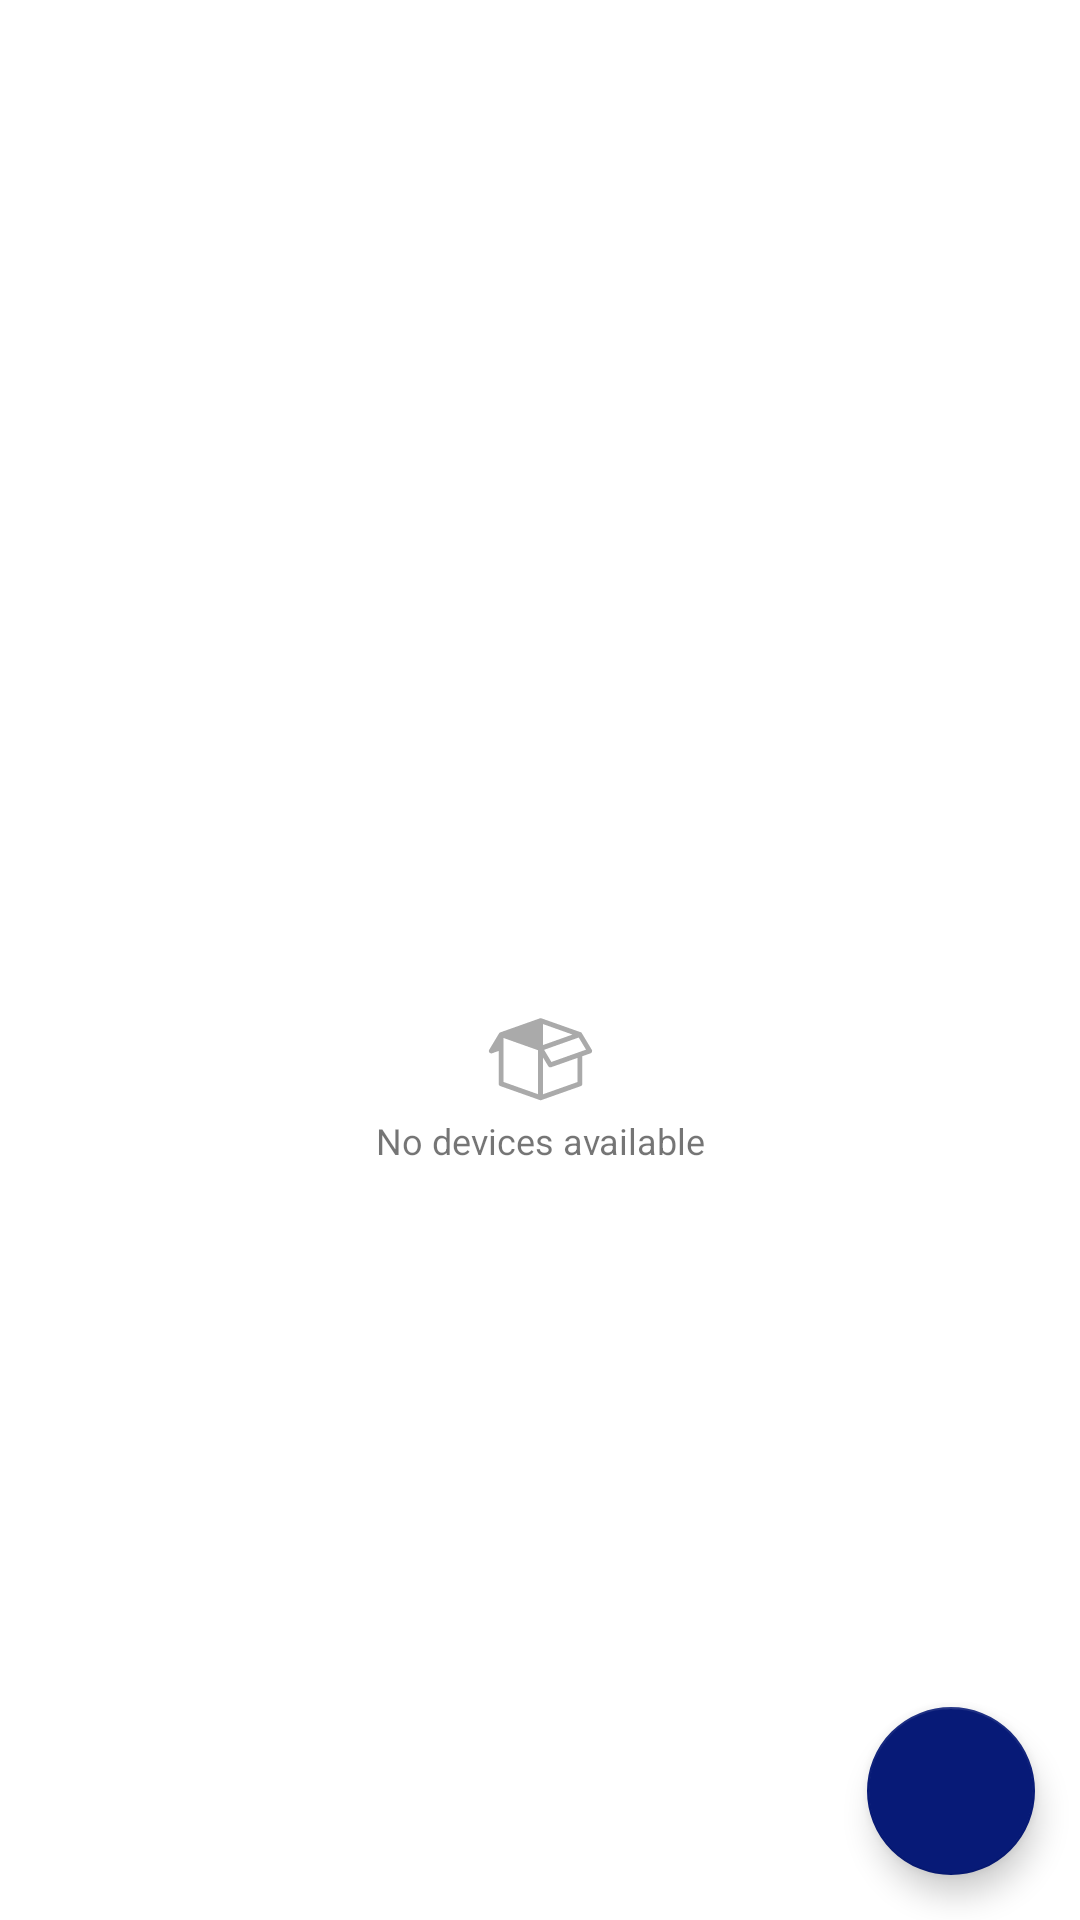

Named icons in this screenshot (1080*1920) and their bounding boxes, (x1, y1, x2, y2):
box: (489, 1018, 592, 1100)
